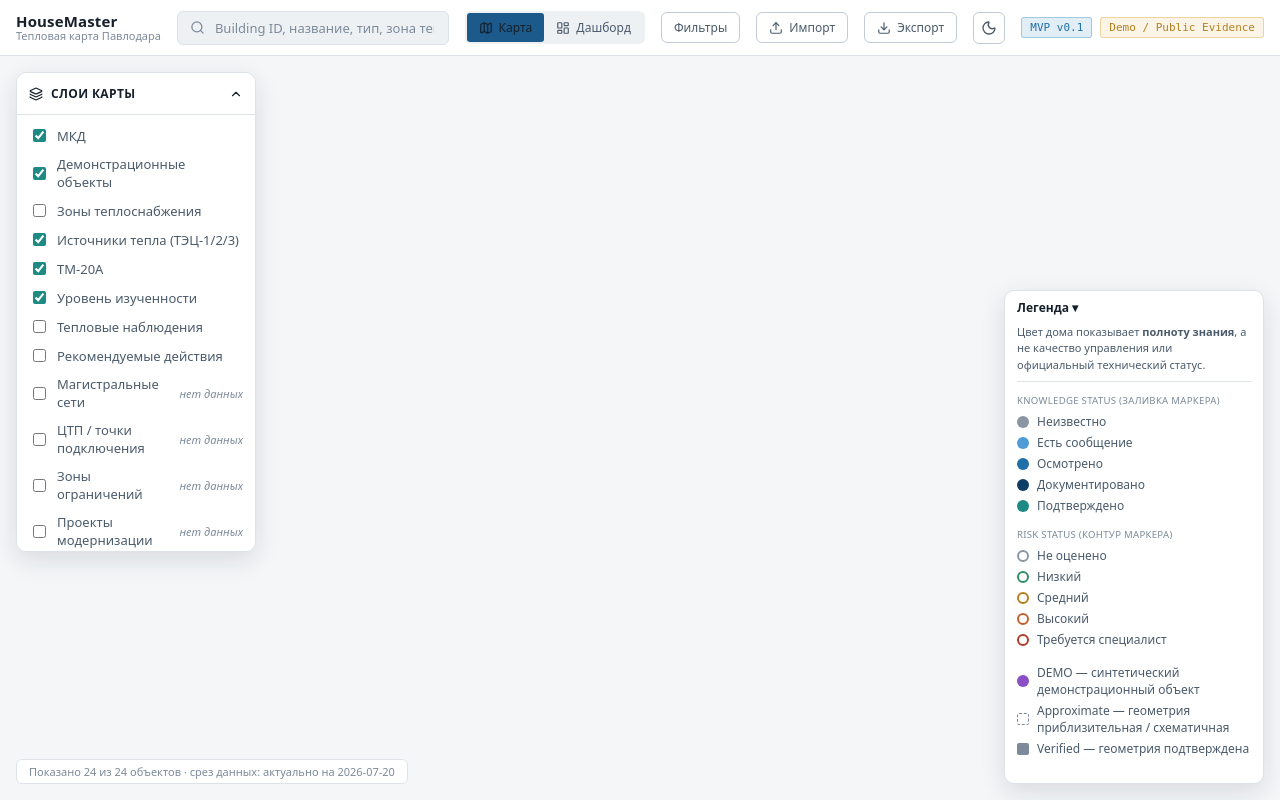
Test: App smoke test › opens the import modal
Click the button "Импорт". click: (802, 28)
box: [756, 12, 848, 43]
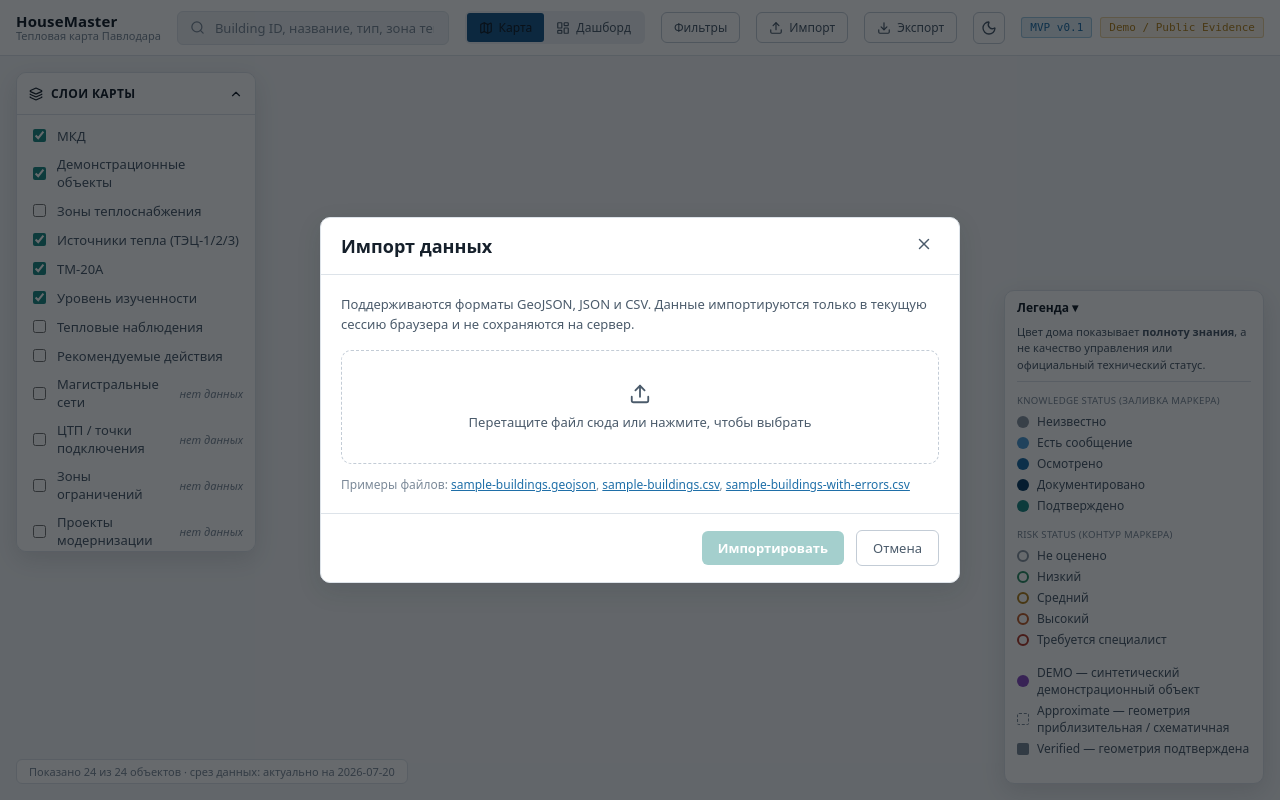
Expected: the heading "Импорт данных" is shown, [341, 234, 492, 258]
